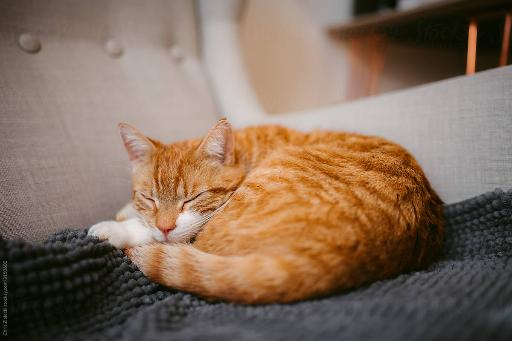cat_sleeping: (88, 119, 443, 304)
